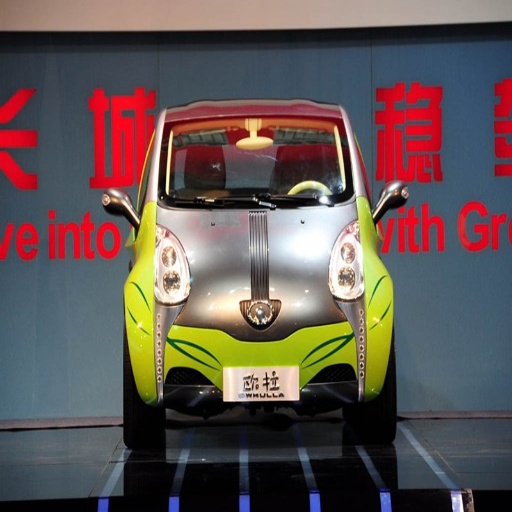front_bumper: (325, 337, 368, 402)
hood: (160, 204, 356, 270)
trunk: (172, 228, 324, 387)
